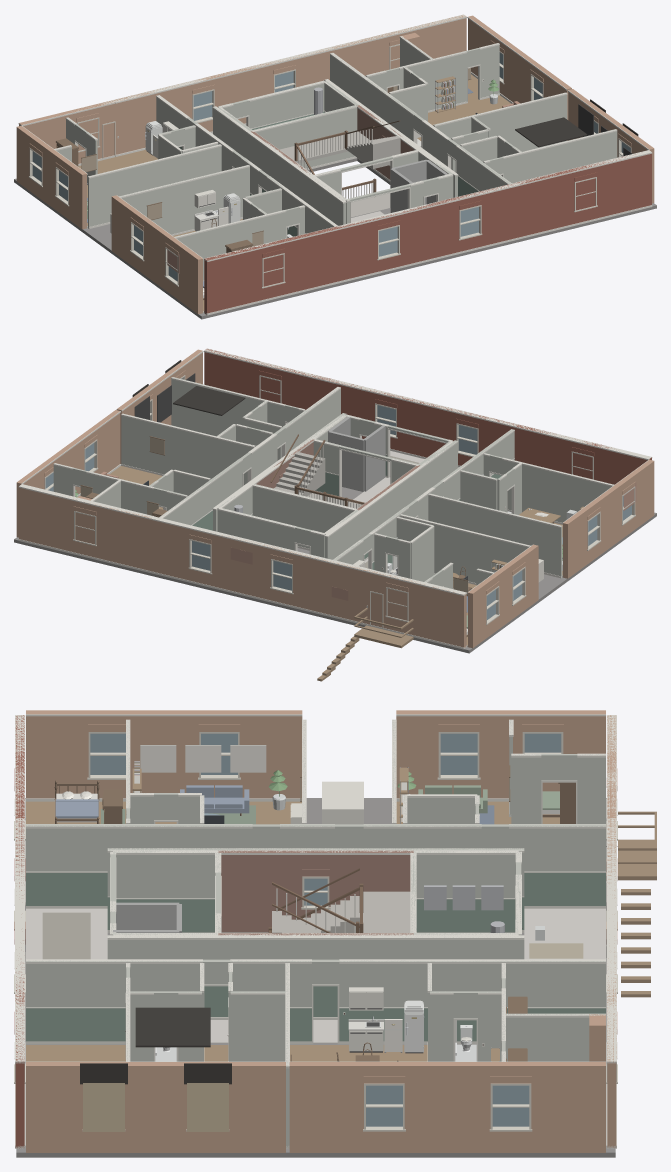
File: floor_05.glb
3 views of the same model, one above another, from view 1: azimuth 30°, elevation 25°; view 2: azimuth 150°, elevation 25°; view 3: azimuth 270°, elevation 25° (orthographic). The views are drawn at different scales.
Parts seen in each view (by area): view 1: F05_walls-col, F05_walls_cbrick-col, F05_walls_fbrick-col, F05_trim, F05_stone_trim-col, F05_slabs-col, F05_glazing-col, F05_stairs, F05_floors_floor_oak, F05_walls_conc-col, F05_furniture_char-col, F05_walls_brick-col (+8 smaller); view 2: F05_walls-col, F05_walls_cbrick-col, F05_trim, F05_walls_fbrick-col, F05_stone_trim-col, F05_glazing-col, F05_walls_conc-col, F05_slabs-col, F05_stairs, F05_furniture_timber-col, F05_furniture_char-col, F05_furniture_soot-col (+7 smaller); view 3: F05_walls-col, F05_walls_cbrick-col, F05_trim, F05_wainscot, F05_walls_brick-col, F05_glazing-col, F05_floors_terrazzo, F05_floors_floor_oak, F05_slabs-col, F05_furniture_char-col, F05_stone_trim-col, F05_furniture_plywood-col (+17 smaller).
Boxes of the visible parts, x1=… form: F05_walls-col: x1=55, y1=36, x2=617, y2=280; F05_walls_cbrick-col: x1=16, y1=15, x2=654, y2=314; F05_walls_fbrick-col: x1=204, y1=153, x2=651, y2=314; F05_trim: x1=18, y1=14, x2=652, y2=315; F05_stone_trim-col: x1=28, y1=44, x2=631, y2=288; F05_slabs-col: x1=14, y1=158, x2=656, y2=319; F05_glazing-col: x1=32, y1=52, x2=630, y2=281; F05_stairs: x1=280, y1=131, x2=400, y2=217; F05_floors_floor_oak: x1=78, y1=74, x2=510, y2=312; F05_walls_conc-col: x1=390, y1=159, x2=447, y2=212; F05_furniture_char-col: x1=515, y1=99, x2=638, y2=147; F05_walls_brick-col: x1=251, y1=105, x2=414, y2=179; F05_walls-col: x1=53, y1=377, x2=612, y2=588; F05_walls_cbrick-col: x1=16, y1=349, x2=654, y2=648; F05_trim: x1=18, y1=348, x2=652, y2=649; F05_walls_fbrick-col: x1=204, y1=349, x2=651, y2=484; F05_stone_trim-col: x1=44, y1=375, x2=635, y2=629; F05_glazing-col: x1=45, y1=405, x2=631, y2=619; F05_walls_conc-col: x1=328, y1=416, x2=385, y2=491; F05_slabs-col: x1=14, y1=451, x2=656, y2=653; F05_stairs: x1=274, y1=452, x2=362, y2=508; F05_furniture_timber-col: x1=317, y1=608, x2=413, y2=681; F05_furniture_char-col: x1=132, y1=360, x2=245, y2=415; F05_furniture_soot-col: x1=134, y1=373, x2=195, y2=422; F05_walls-col: x1=26, y1=719, x2=605, y2=1148; F05_walls_cbrick-col: x1=26, y1=710, x2=617, y2=1152; F05_trim: x1=15, y1=714, x2=616, y2=1148; F05_wainscot: x1=26, y1=873, x2=605, y2=1041; F05_walls_brick-col: x1=218, y1=850, x2=413, y2=935; F05_glazing-col: x1=90, y1=733, x2=561, y2=1126; F05_floors_terrazzo: x1=26, y1=908, x2=605, y2=1042; F05_floors_floor_oak: x1=26, y1=801, x2=559, y2=1061; F05_slabs-col: x1=16, y1=798, x2=615, y2=1157; F05_furniture_char-col: x1=80, y1=1007, x2=231, y2=1084; F05_stone_trim-col: x1=14, y1=732, x2=617, y2=1131; F05_furniture_plywood-col: x1=83, y1=1083, x2=228, y2=1131.
Size of what is drawn, in the model's own units: 28.11 by 7.42 by 21.4.
